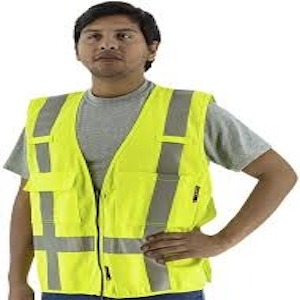vest: (29, 90, 217, 295)
